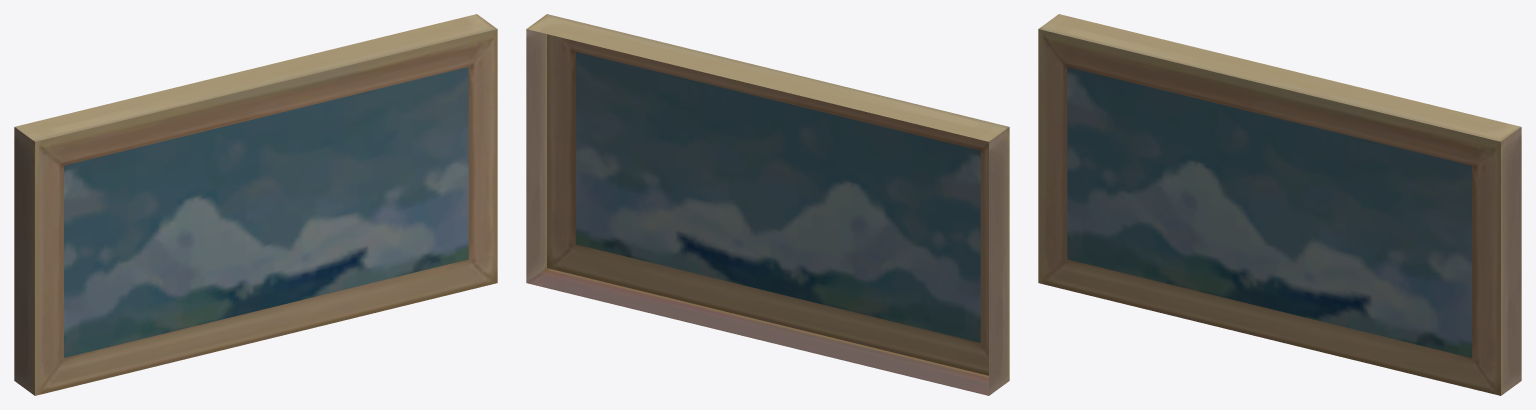
File: Homeworld_Interior_Md_Walldecoration_Painting_02_Vo.fbx
The picture shows the model from 3 angles, left to right: view 1: azimuth 30°, elevation 25°; view 2: azimuth 150°, elevation 25°; view 3: azimuth 330°, elevation 25°; orthographic projection.
Visible parts, largest first — view 1: Indoor_MdProps_AngelShare01_Pictures09_Vo; view 2: Indoor_MdProps_AngelShare01_Pictures09_Vo; view 3: Indoor_MdProps_AngelShare01_Pictures09_Vo.
Part boxes in pixels (x1=…): Indoor_MdProps_AngelShare01_Pictures09_Vo: x1=14, y1=14, x2=497, y2=395; Indoor_MdProps_AngelShare01_Pictures09_Vo: x1=526, y1=14, x2=1009, y2=395; Indoor_MdProps_AngelShare01_Pictures09_Vo: x1=1038, y1=14, x2=1521, y2=395.
Size of the model in its own units: 1.26 by 0.6635 by 0.0974.
1 material, 1 textured.
